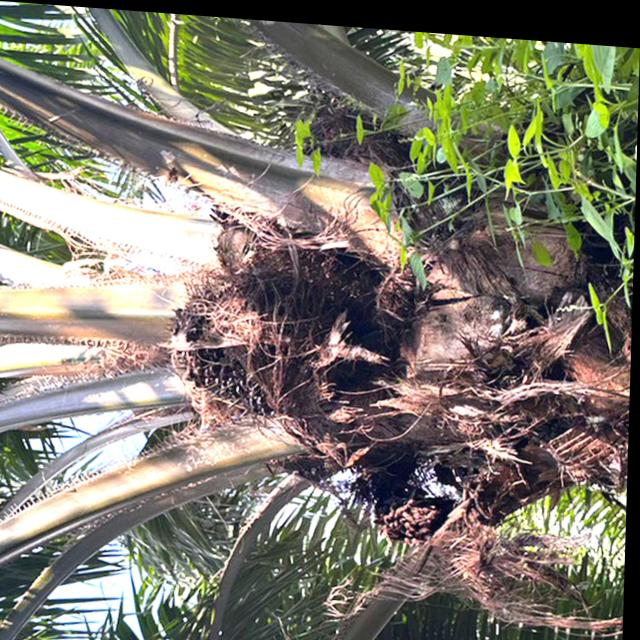ripe: (156, 264, 334, 432)
